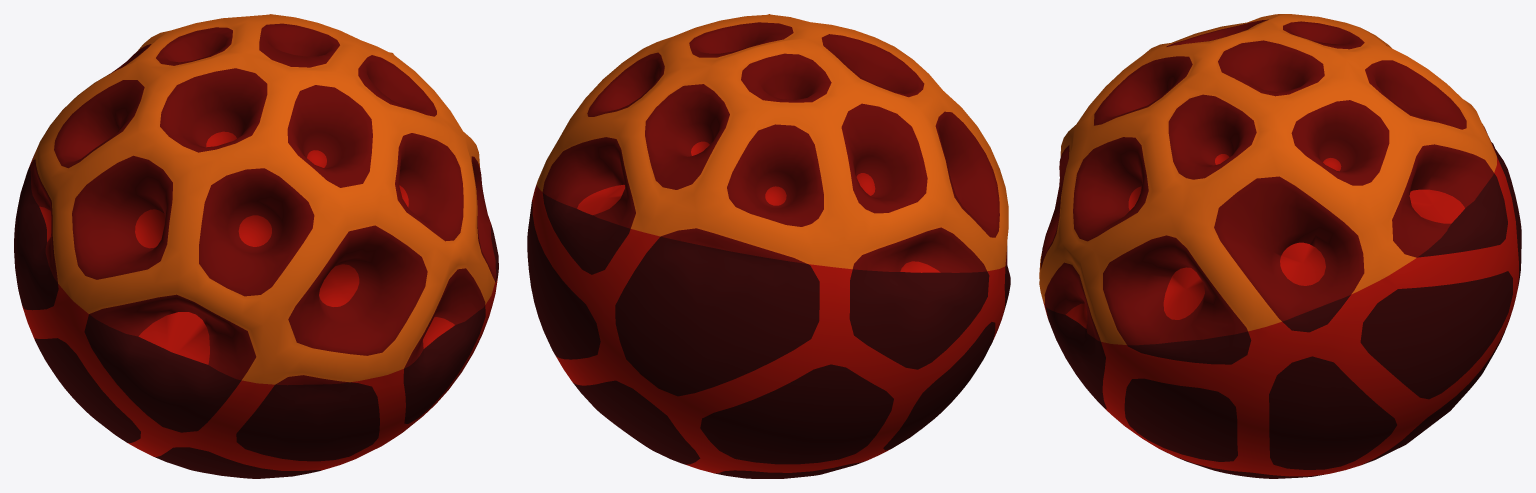
File: cell_sphere_231.glb
3 renders of one model, left to right at view 1: azimuth 30°, elevation 25°; view 2: azimuth 150°, elevation 25°; view 3: azimuth 270°, elevation 25°, orthographic.
Parts seen in each view (by area): view 1: cell_sphere_231; view 2: cell_sphere_231; view 3: cell_sphere_231.
Part boxes in pixels (bbox=[...]): cell_sphere_231: bbox=[14, 14, 498, 478]; cell_sphere_231: bbox=[527, 14, 1010, 478]; cell_sphere_231: bbox=[1039, 14, 1521, 478].
Size of the model in its own units: 18.66 by 17.66 by 18.52.
